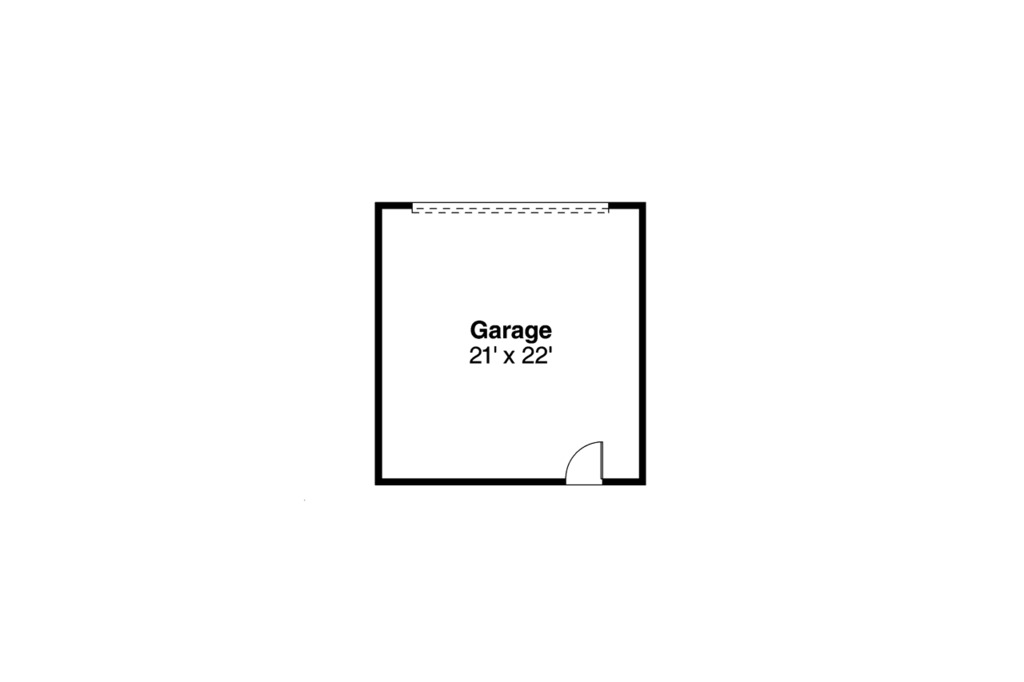door: (557, 434, 607, 486)
